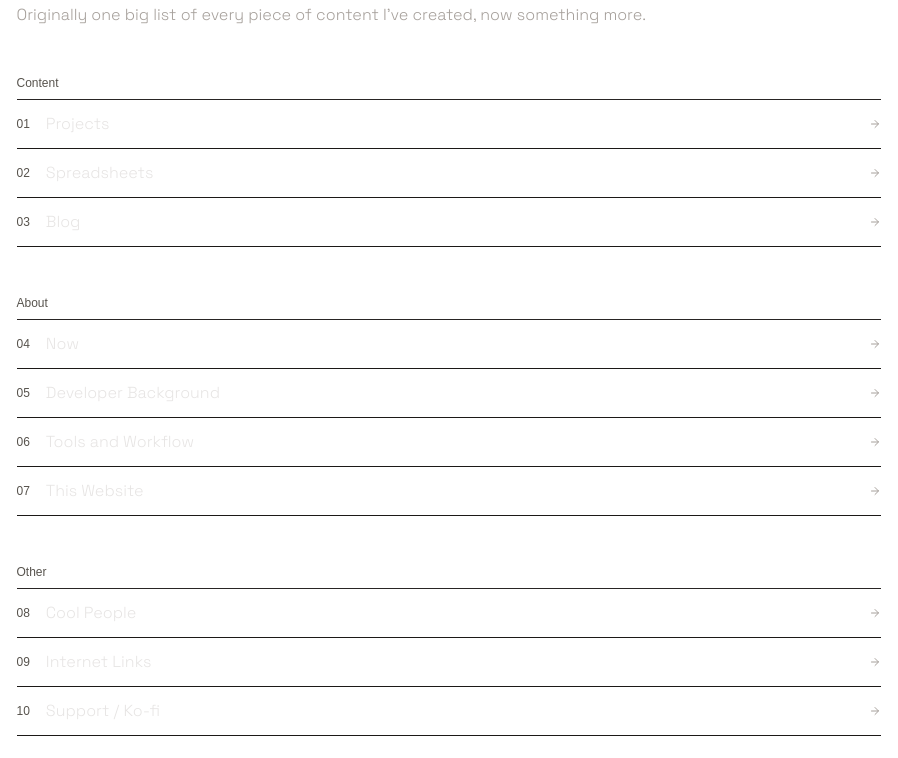
it: Navigation › internal links › "Cool People" navigates to /cool
(page scrolled)
Click the link "08 Cool People": (449, 614) top-left (17, 589), bottom-right (881, 638)
(page scrolled)
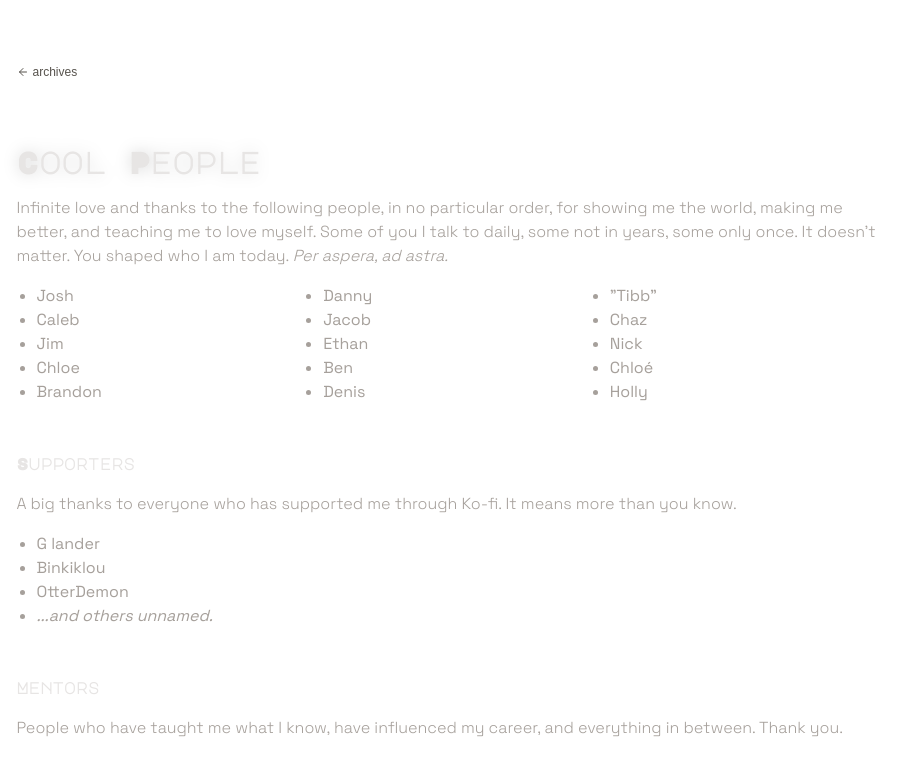
Check: the heading "Cool People" is shown, box top-left (16, 147), bottom-right (261, 177)
